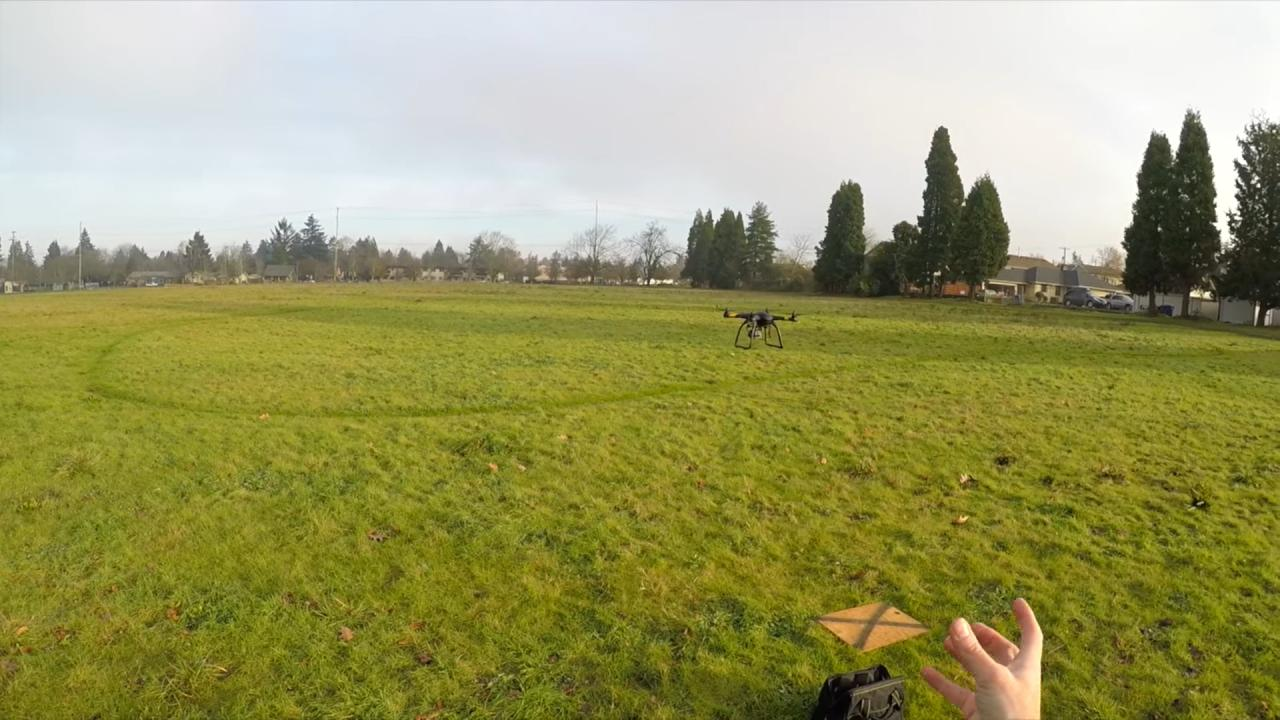Drone: (708, 298, 816, 362)
